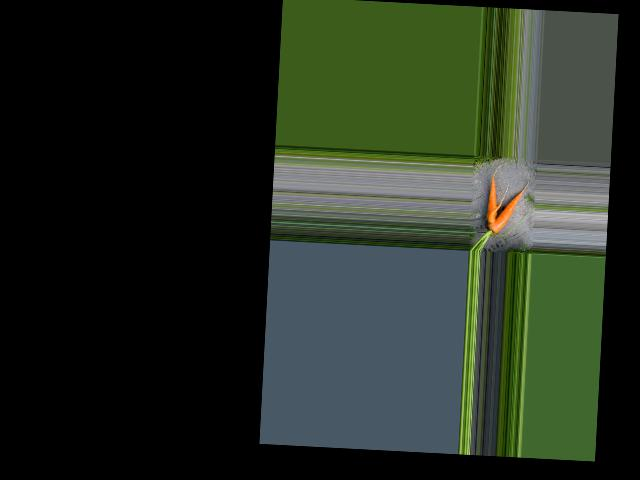carrot: (479, 165, 506, 227)
